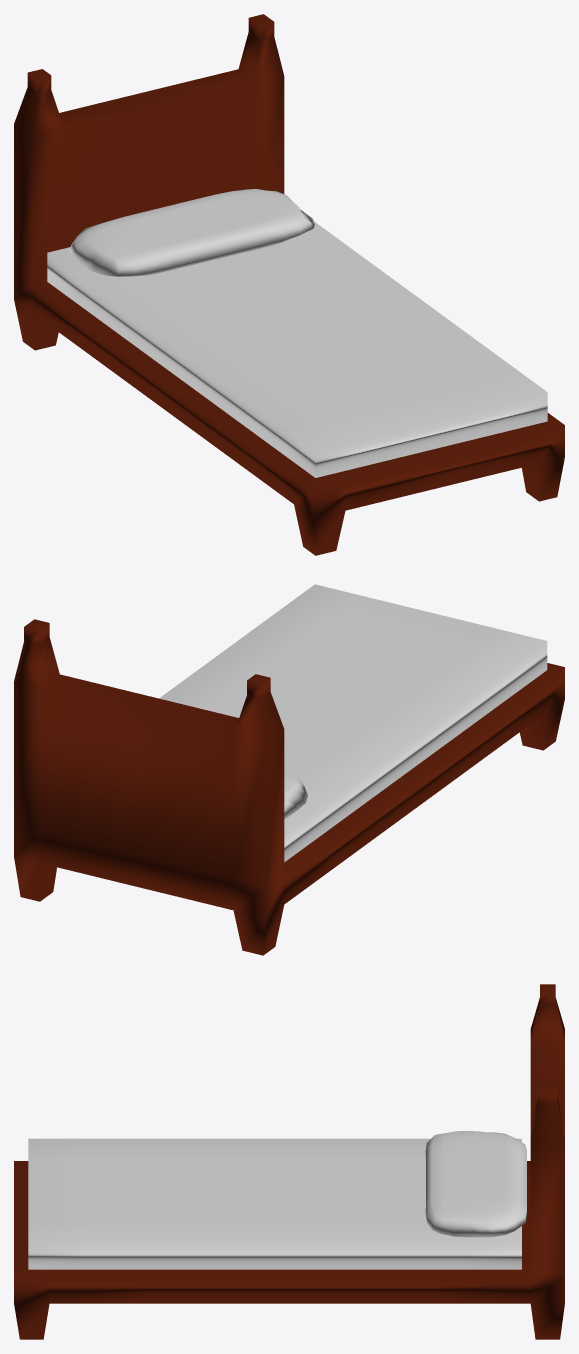
Rendered from Cama.fbx.
3 renders of one model, top to bottom at view 1: azimuth 30°, elevation 25°; view 2: azimuth 150°, elevation 25°; view 3: azimuth 270°, elevation 25°, orthographic. The views are drawn at different scales.
Visible parts, largest first — view 1: Cube.001, Cama, Cube.002; view 2: Cama, Cube.001, Cube.002; view 3: Cube.001, Cama, Cube.002.
Boxes of the visible parts, x1,y1,x2,y2 form: Cube.001: [47, 221, 547, 477]; Cama: [14, 14, 564, 555]; Cube.002: [69, 189, 314, 276]; Cama: [14, 619, 564, 955]; Cube.001: [159, 584, 547, 862]; Cube.002: [284, 773, 307, 818]; Cube.001: [28, 1138, 521, 1269]; Cama: [14, 984, 564, 1339]; Cube.002: [425, 1131, 526, 1237].
Size of the model in its own units: 103 by 105 by 211.
